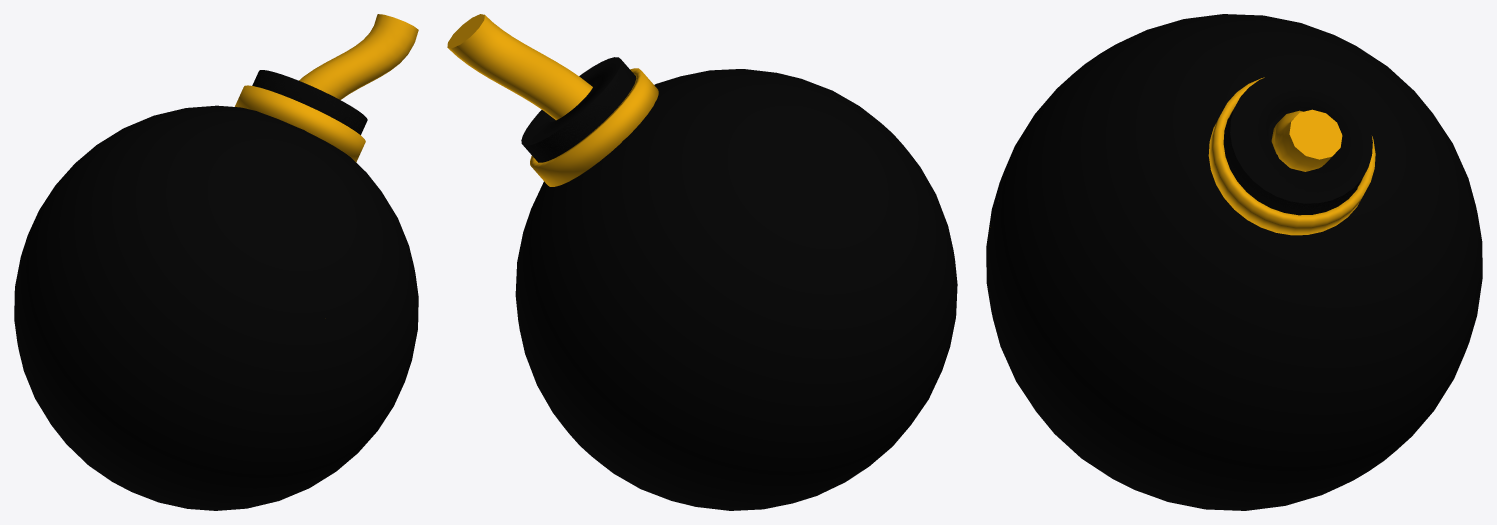
The model's file is bomb 1.1.fbx.
3 renders of one model, left to right at view 1: azimuth 30°, elevation 25°; view 2: azimuth 150°, elevation 25°; view 3: azimuth 270°, elevation 25°, orthographic. The views are drawn at different scales.
Parts seen in each view (by area): view 1: bomb; view 2: bomb; view 3: bomb.
Boxes of the visible parts, <box> form: bomb: <box>14,14,418,510</box>; bomb: <box>447,14,957,510</box>; bomb: <box>986,14,1482,510</box>.
Size of the model in its own units: 231 by 221 by 200.
